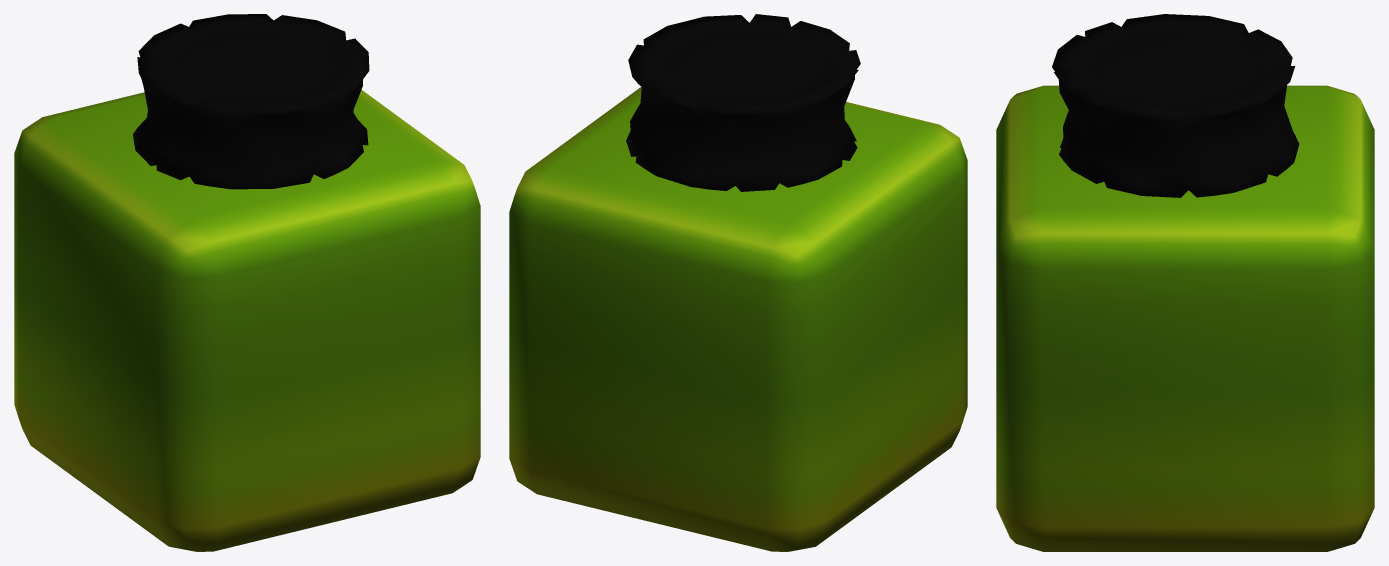
The model's file is block_tree_3.fbx.
3 renders of one model, left to right at view 1: azimuth 30°, elevation 25°; view 2: azimuth 150°, elevation 25°; view 3: azimuth 270°, elevation 25°, orthographic. The views are drawn at different scales.
Parts seen in each view (by area): view 1: block_tree_3; view 2: block_tree_3; view 3: block_tree_3.
Part boxes in pixels (left/top/right/bottom): block_tree_3: left=14, top=14, right=480, bottom=551; block_tree_3: left=509, top=14, right=967, bottom=551; block_tree_3: left=996, top=14, right=1374, bottom=551.
Size of the model in its own units: 200 by 248 by 200.
